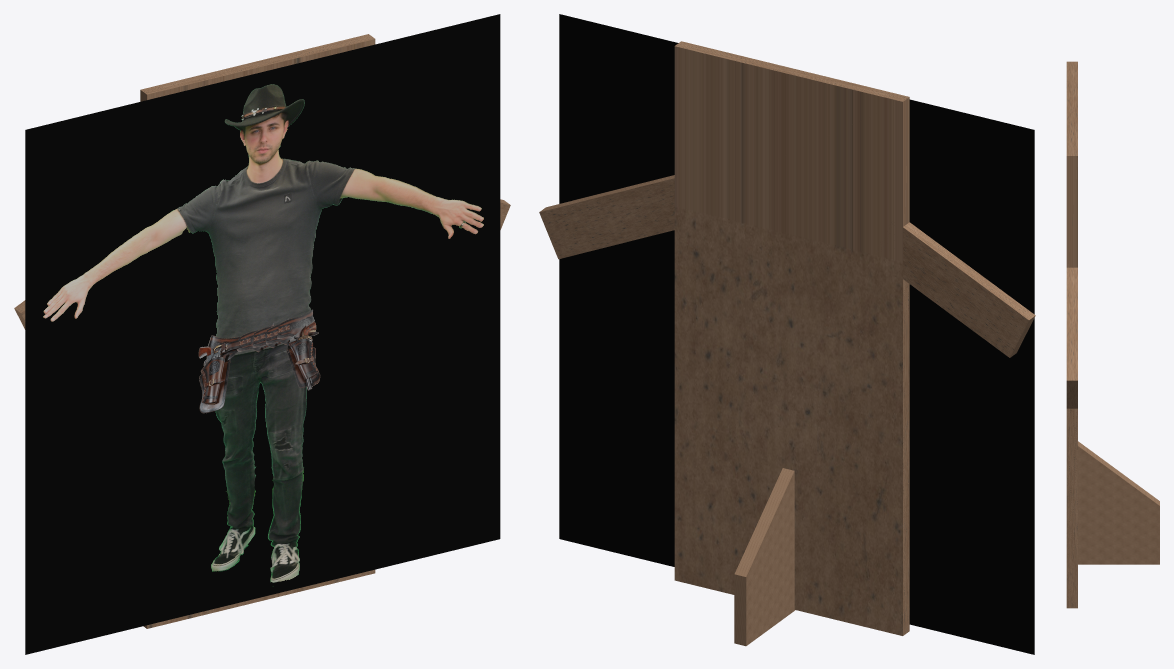
Rendered from 0-outlaw.fbx.
3 views of the same model, side by side, from view 1: azimuth 30°, elevation 25°; view 2: azimuth 150°, elevation 25°; view 3: azimuth 270°, elevation 25° (orthographic). The views are drawn at different scales.
Visible parts, largest first — view 1: 1-entrance, Cube; view 2: Cube, 1-entrance, Cube.003, Cube.001, Cube.002; view 3: Cube.001, Cube, Cube.002.
Boxes of the visible parts, x1,y1,x2,y2 form: 1-entrance: [25, 14, 500, 654]; Cube: [140, 34, 375, 628]; Cube: [674, 41, 909, 635]; 1-entrance: [559, 14, 1034, 654]; Cube.003: [876, 222, 1035, 357]; Cube.001: [734, 468, 795, 646]; Cube.002: [539, 175, 674, 259]; Cube.001: [1078, 441, 1159, 564]; Cube: [1066, 61, 1077, 608]; Cube.002: [1066, 267, 1077, 408].
Bounding box in the file's own units: 1260 × 1316 × 252.
